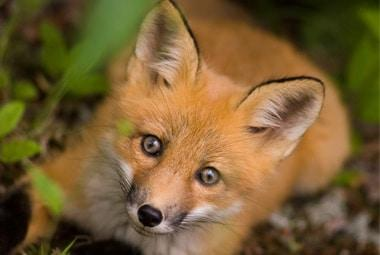fox: (23, 0, 365, 255)
